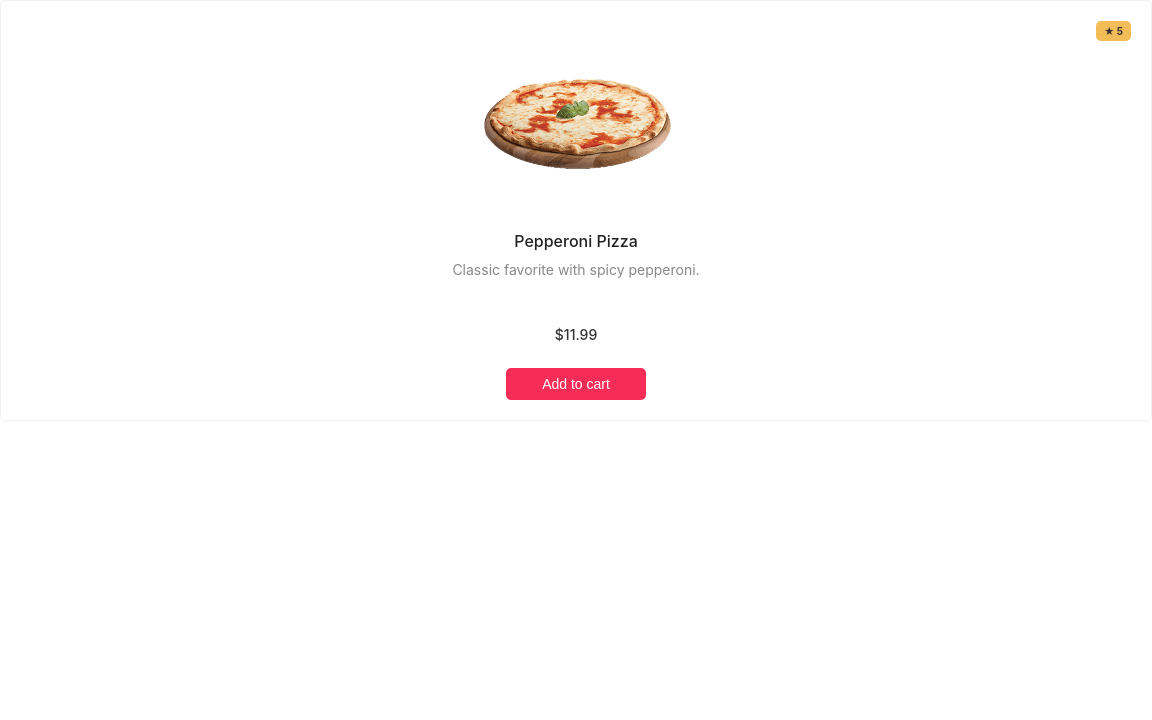
Test: ProductCard › adds the product with selected toppings to the cart and resets the card
What coordinates should you click on to do the following:
click the picture with alt text "Pepperoni Pizza"
I would click on:
 (576, 121)
Its box is 466,60 -> 686,182.
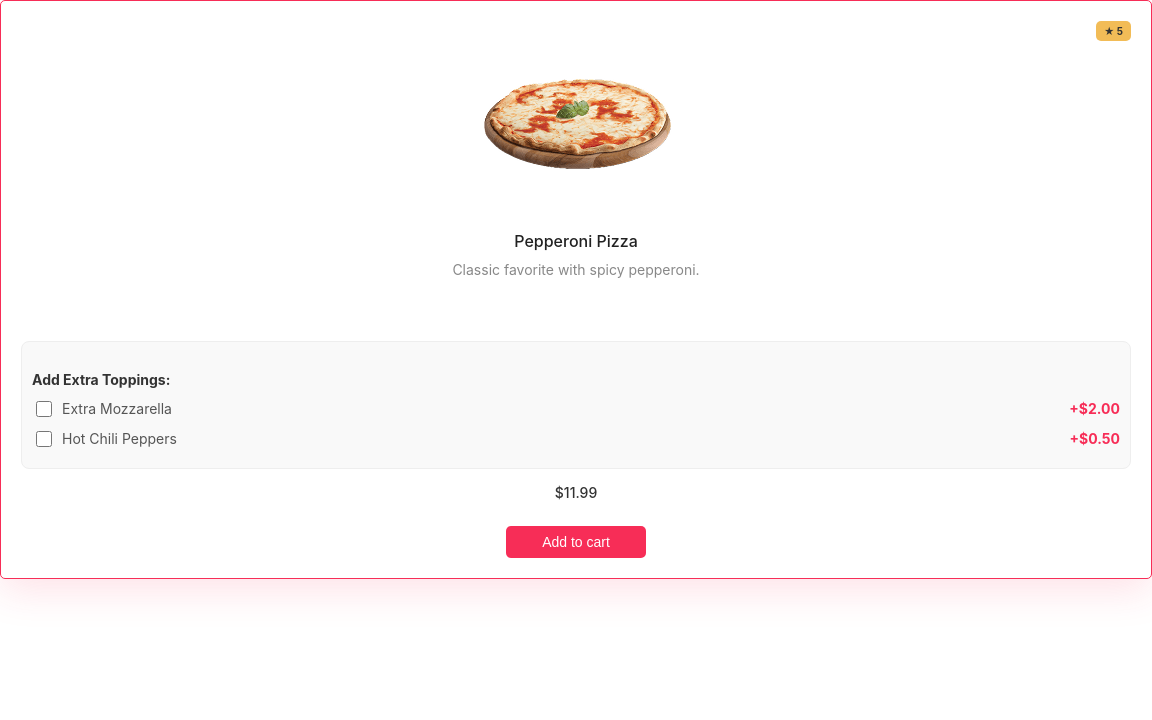
What coordinates should you click on to do the following:
click the checkbox labelled "Extra Mozzarella +$2.00"
I would click on:
 (44, 409)
Its box is 36,401 -> 52,417.
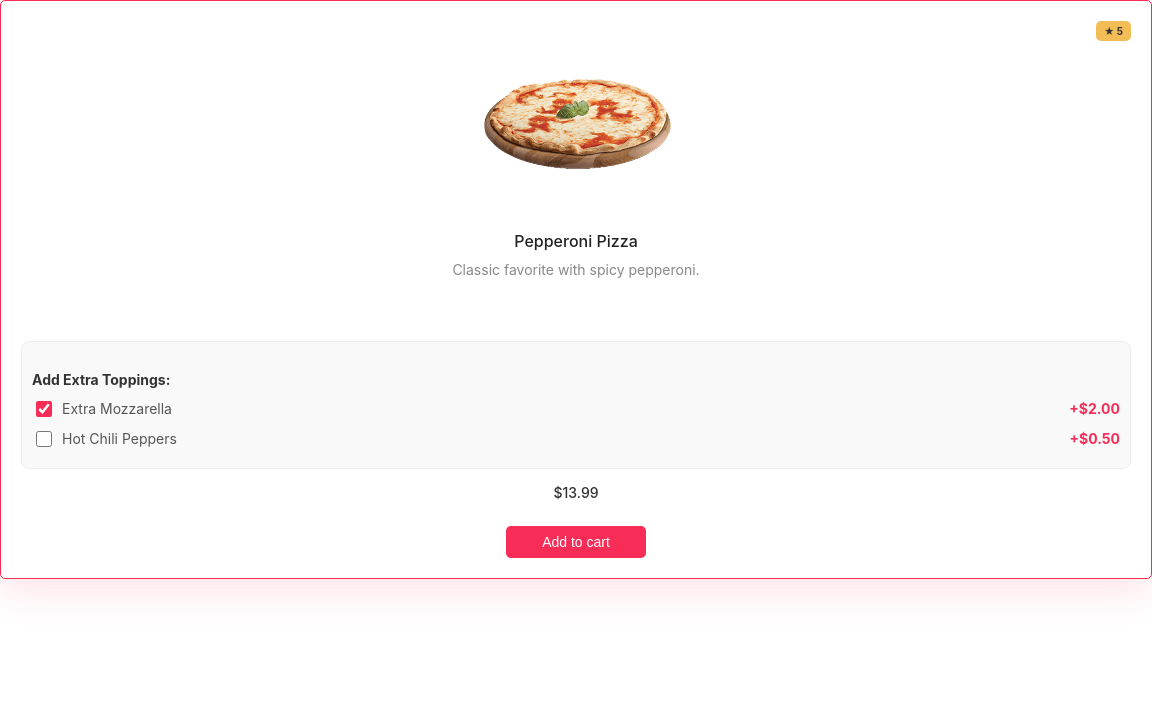
What coordinates should you click on to do the following:
click the button "Add to cart"
I would click on:
 (576, 542)
Its box is 506,526 -> 646,558.
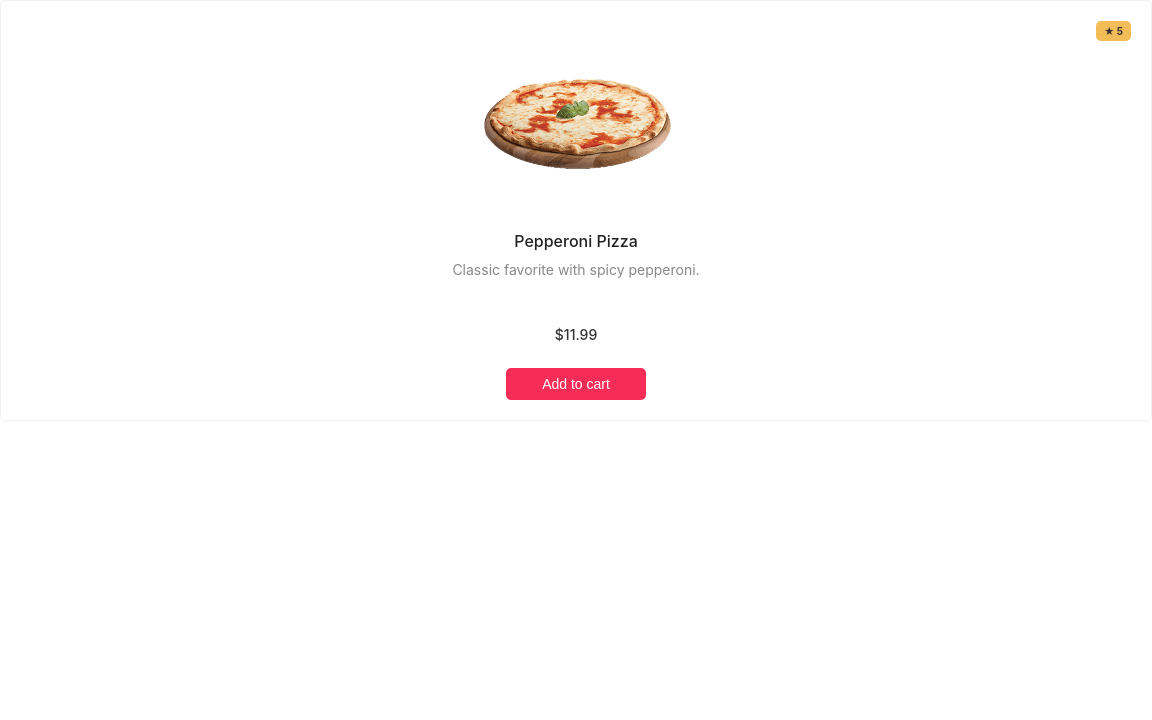
expect the text "$11.99" is shown: met, box 555,326 -> 597,343
expect the heading "Add Extra Toppings:" is gone: met
